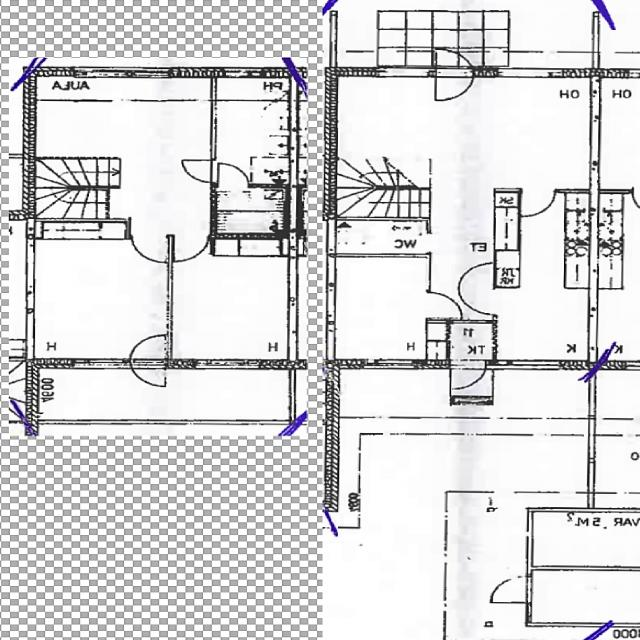door: (436, 68, 475, 105), (436, 40, 475, 76), (129, 335, 164, 371), (129, 361, 164, 396), (454, 288, 496, 316), (496, 577, 538, 603), (454, 360, 487, 392), (426, 292, 465, 317), (176, 234, 207, 261), (178, 160, 216, 182), (218, 162, 248, 189), (135, 234, 165, 260)
